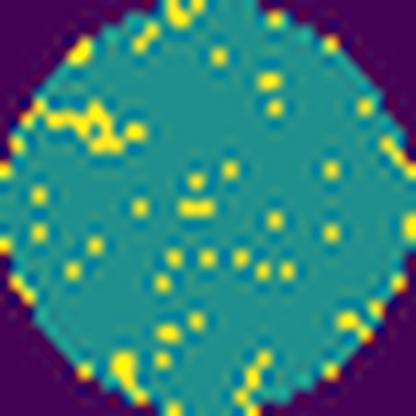Edge-Loc: (46, 104, 146, 153)
